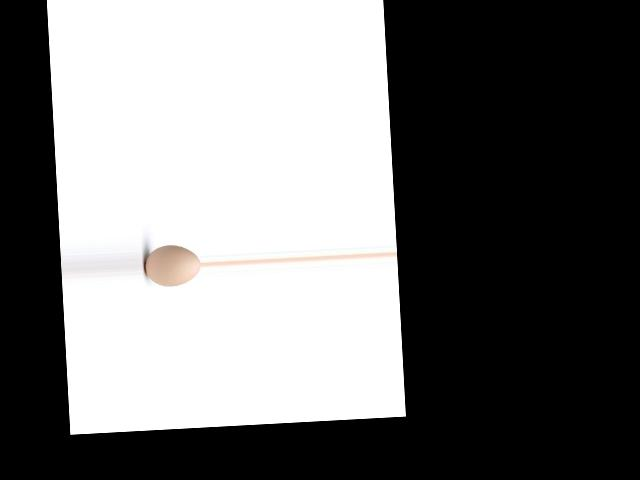egg: (143, 244, 201, 288)
